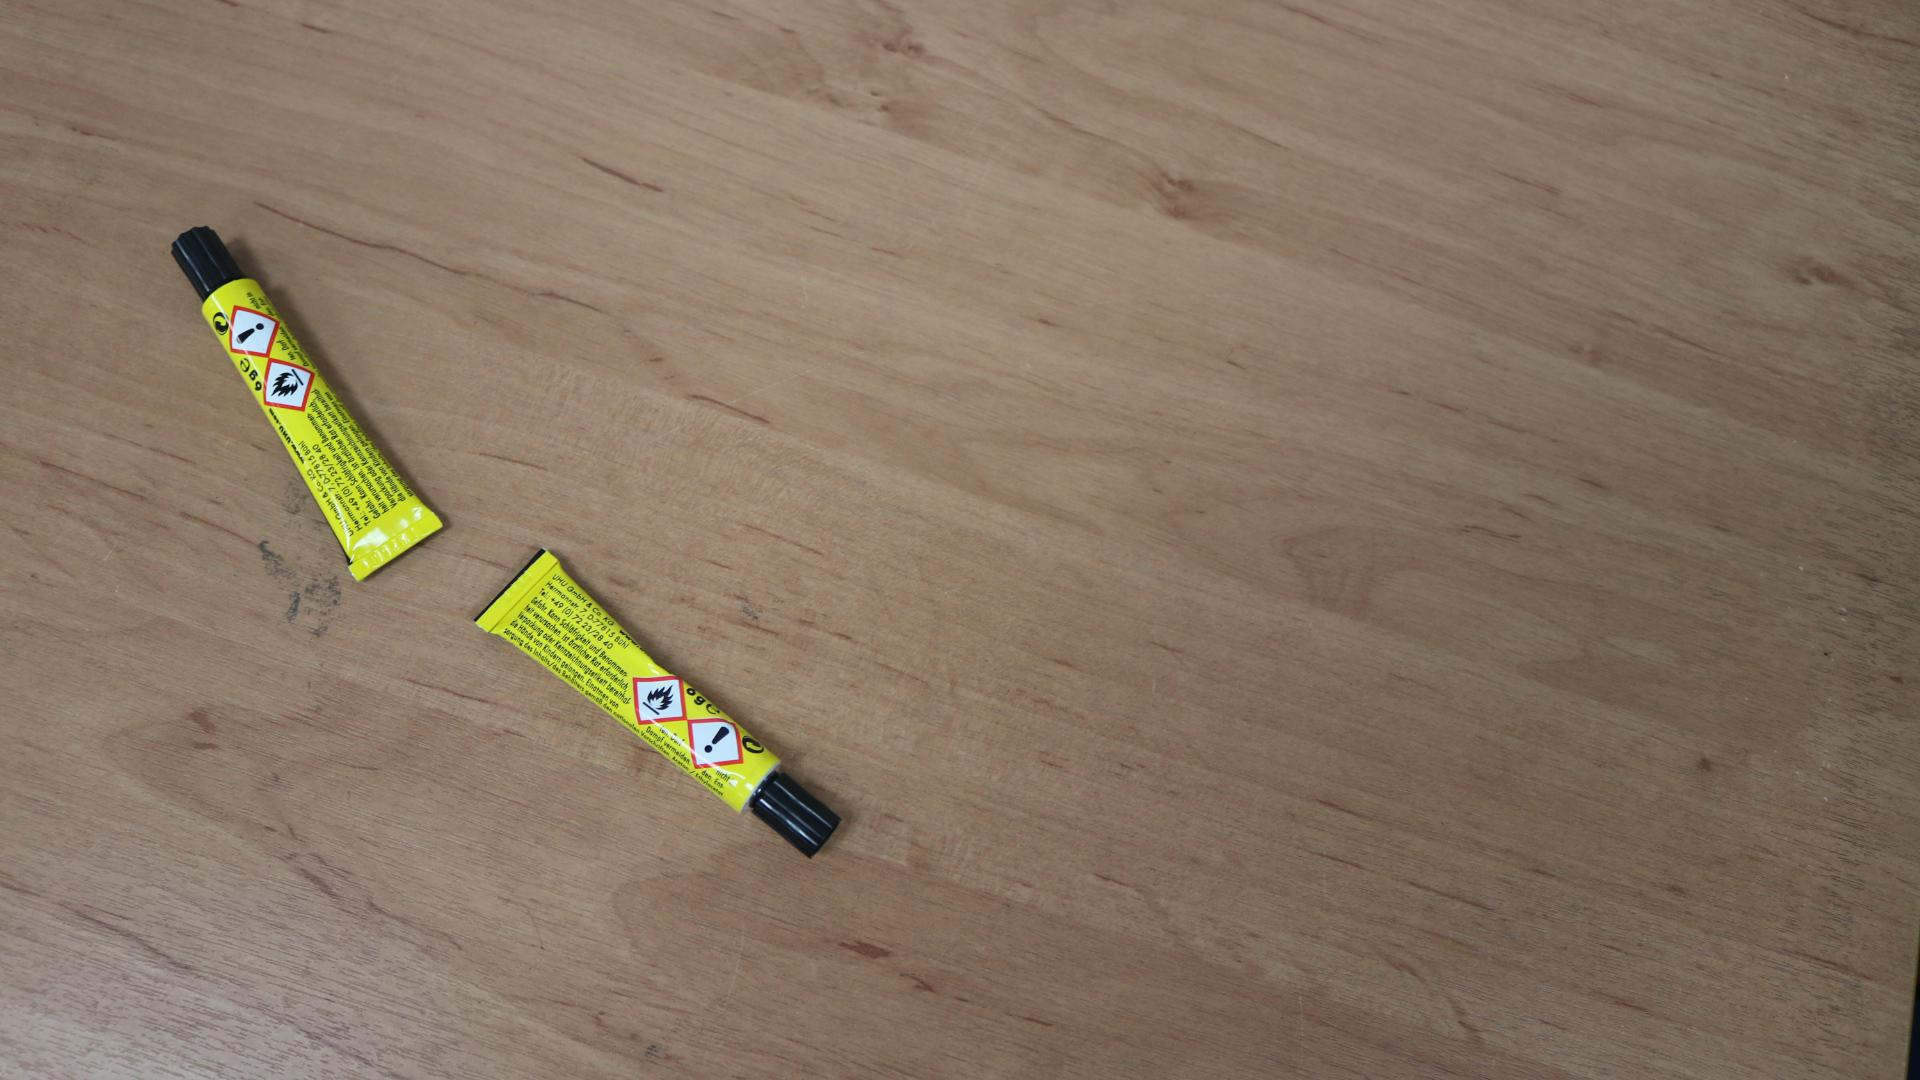Head: (795, 811, 799, 815), (203, 261, 206, 264)
Tail: (511, 589, 516, 594), (392, 545, 396, 549)
Tube: (473, 548, 842, 861), (168, 224, 445, 583)
